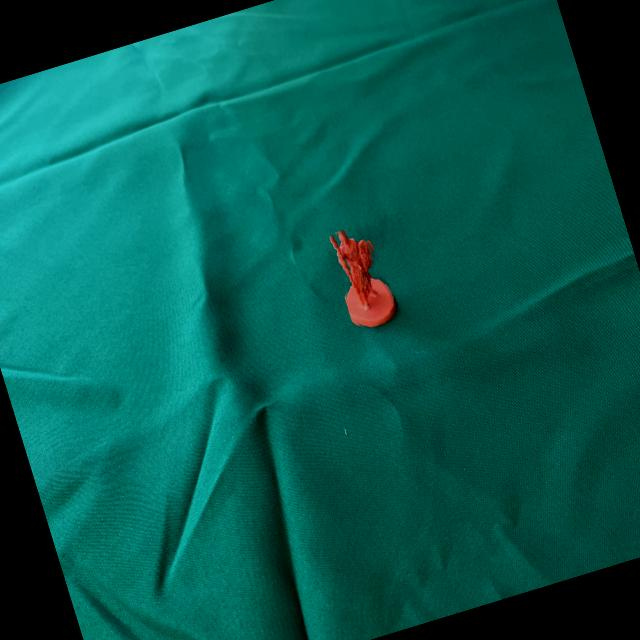amon_follower: (329, 228, 397, 327)
